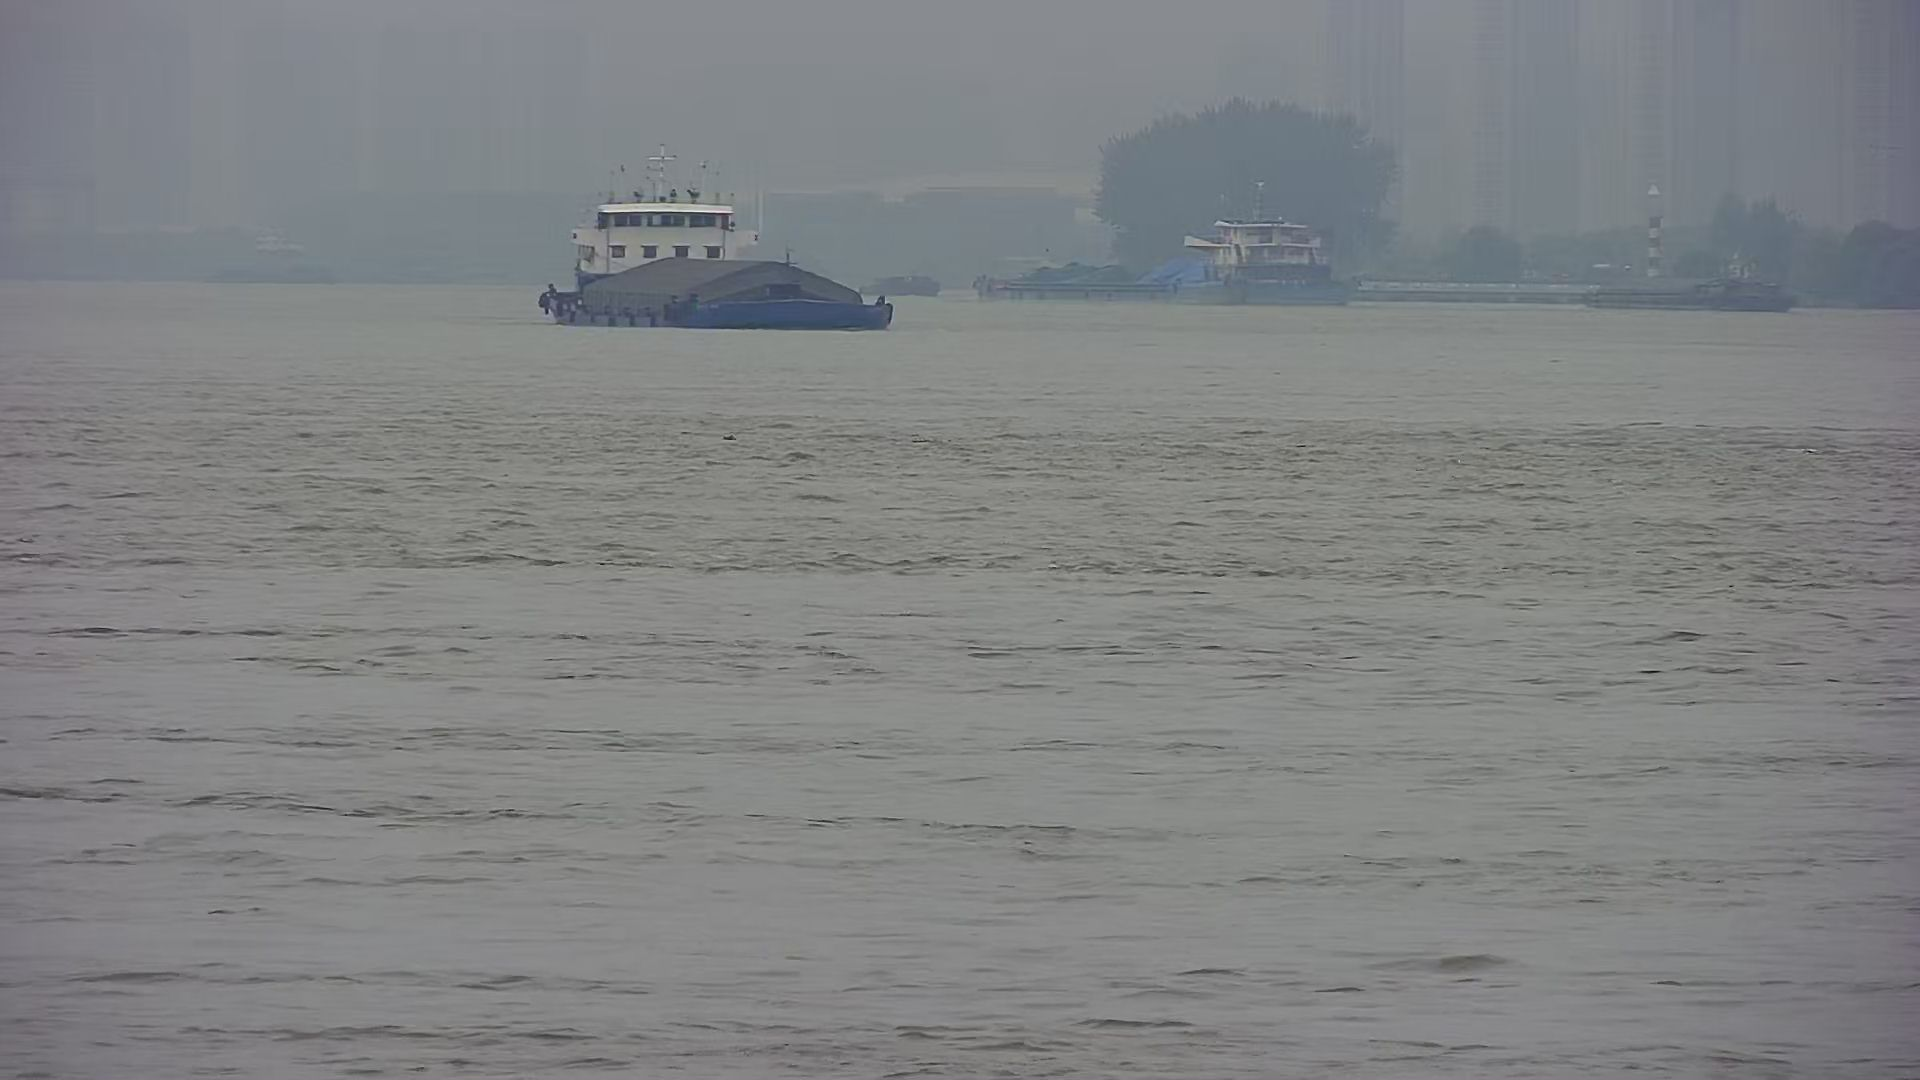ship: (516, 146, 906, 347), (969, 170, 1370, 307), (1578, 255, 1817, 319)
